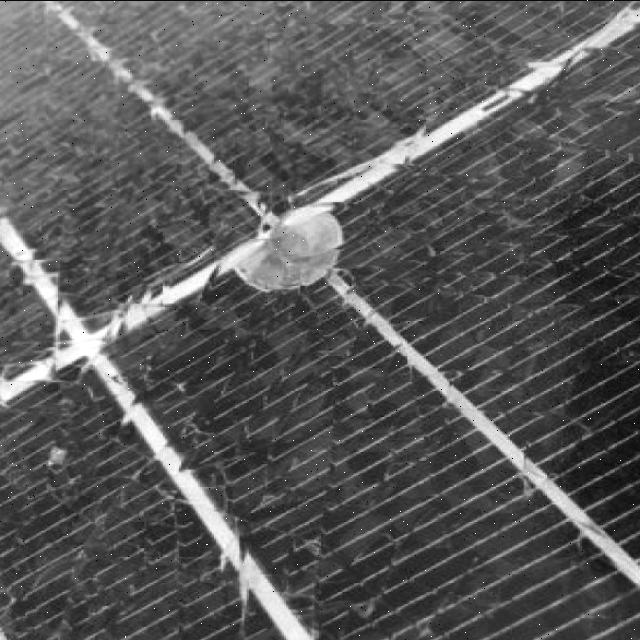Structural Damage: (217, 187, 367, 316)
